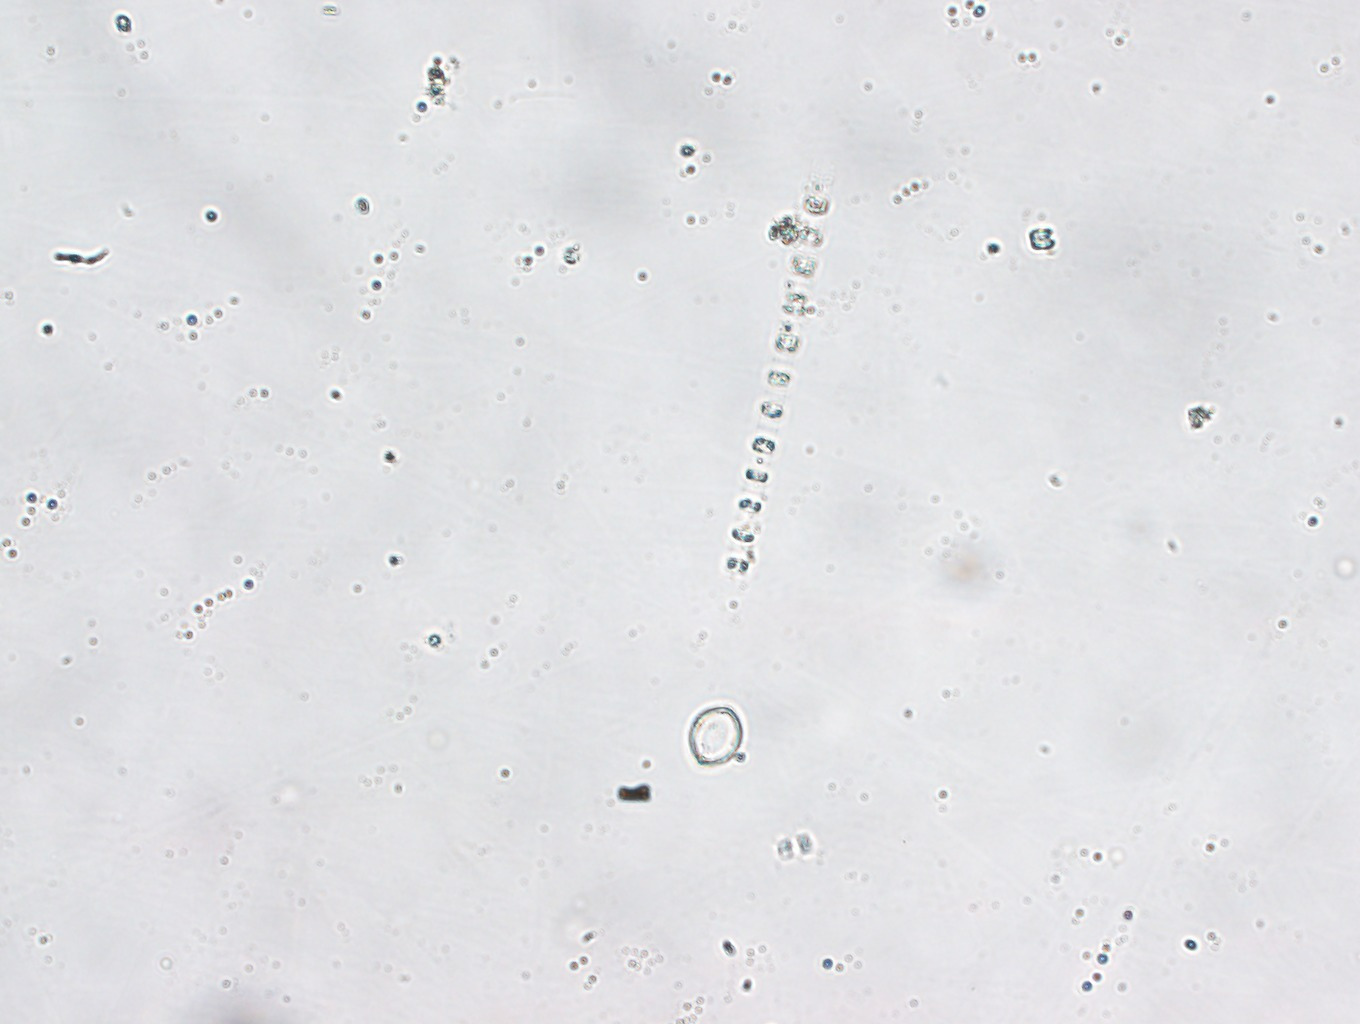skeletonema: (725, 193, 831, 578)
